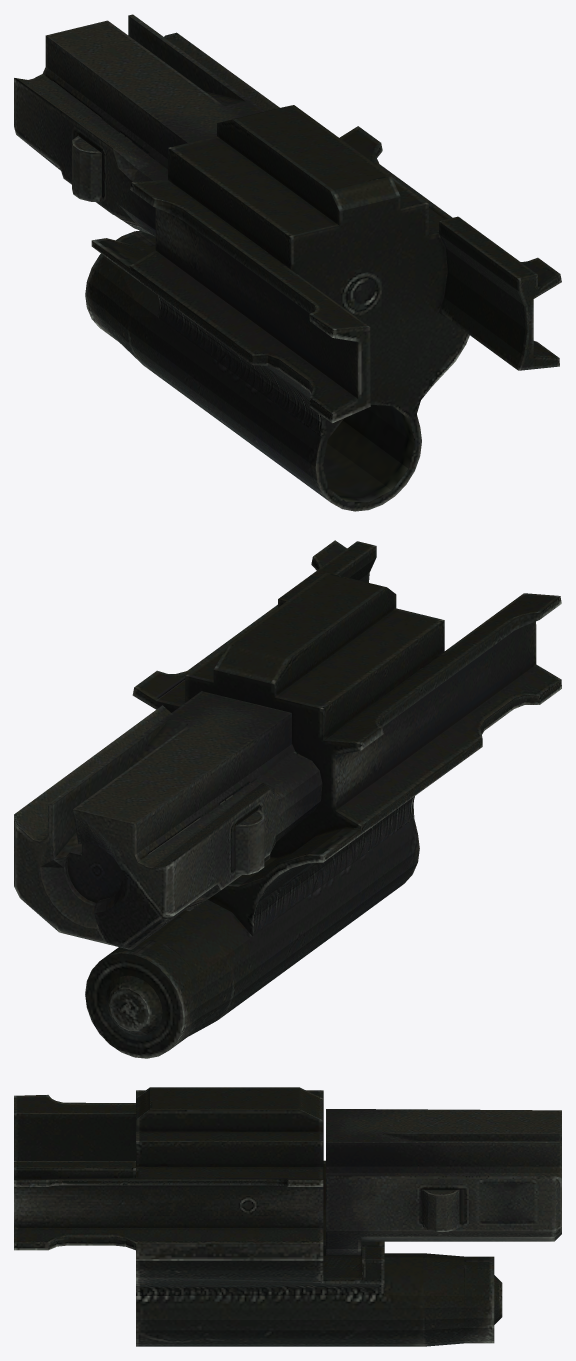
3 views of the same model, one above another, from view 1: azimuth 30°, elevation 25°; view 2: azimuth 150°, elevation 25°; view 3: azimuth 270°, elevation 25° (orthographic). The views are drawn at different scales.
Parts seen in each view (by area): view 1: TW_5d2f0d8048f0356c925bc3b0_PZ_Import; view 2: TW_5d2f0d8048f0356c925bc3b0_PZ_Import; view 3: TW_5d2f0d8048f0356c925bc3b0_PZ_Import.
Boxes of the visible parts, x1,y1,x2,y2 form: TW_5d2f0d8048f0356c925bc3b0_PZ_Import: [14, 14, 561, 511]; TW_5d2f0d8048f0356c925bc3b0_PZ_Import: [14, 540, 561, 1058]; TW_5d2f0d8048f0356c925bc3b0_PZ_Import: [14, 1087, 561, 1346].
Size of the model in its own units: 0.0195 by 0.0525 by 0.0258.
1 material, 1 textured.
